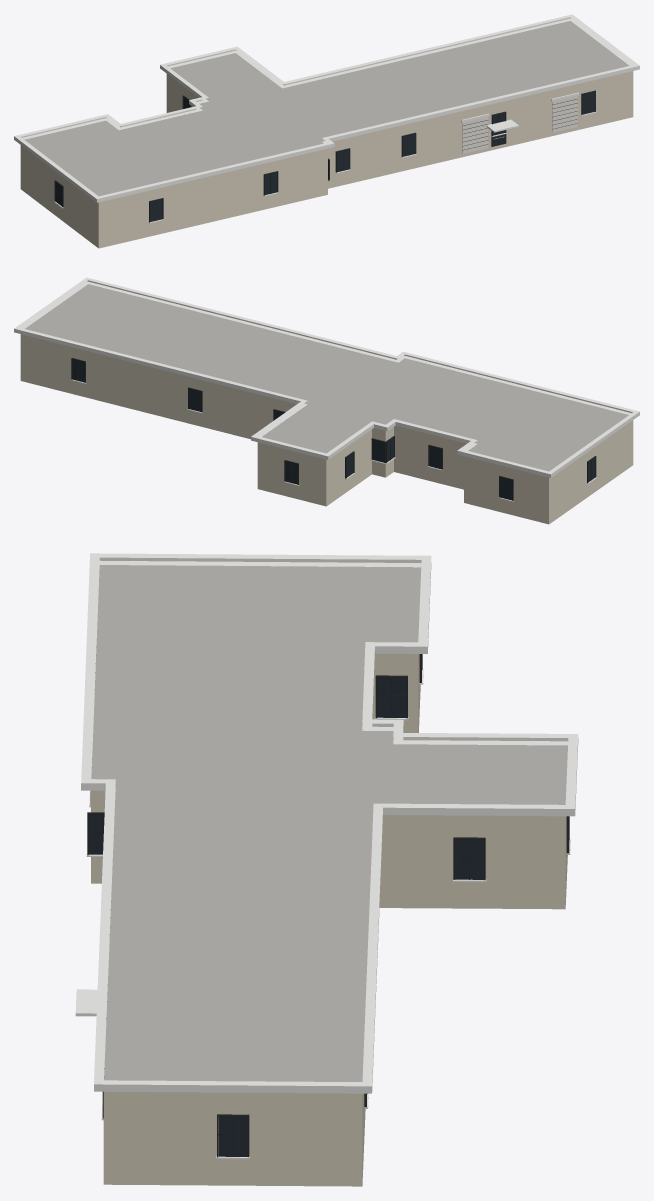
Rendered from north_lab.glb.
3 renders of one model, top to bottom at view 1: azimuth 30°, elevation 25°; view 2: azimuth 150°, elevation 25°; view 3: azimuth 270°, elevation 25°, orthographic. The views are drawn at different scales.
Parts seen in each view (by area): view 1: north_lab_Roof_Membrane, north_lab_Wall_creamMetal, north_lab_Trim_White, north_lab_Glass_dark, north_lab_RollDoor_White, north_lab_Frame_Dark; view 2: north_lab_Roof_Membrane, north_lab_Wall_creamMetal, north_lab_Trim_White, north_lab_Glass_dark, north_lab_Frame_Dark; view 3: north_lab_Roof_Membrane, north_lab_Wall_creamMetal, north_lab_Trim_White, north_lab_Glass_dark, north_lab_Frame_Dark.
Boxes of the visible parts, x1,y1,x2,y2 form: north_lab_Roof_Membrane: [24, 21, 629, 196]; north_lab_Wall_creamMetal: [20, 71, 633, 248]; north_lab_Trim_White: [14, 14, 639, 223]; north_lab_Glass_dark: [55, 92, 595, 221]; north_lab_RollDoor_White: [462, 95, 577, 153]; north_lab_Frame_Dark: [54, 90, 595, 222]; north_lab_Roof_Membrane: [25, 284, 628, 471]; north_lab_Wall_creamMetal: [20, 334, 633, 524]; north_lab_Trim_White: [14, 277, 639, 501]; north_lab_Glass_dark: [72, 359, 595, 500]; north_lab_Frame_Dark: [71, 358, 596, 500]; north_lab_Roof_Membrane: [91, 565, 567, 1081]; north_lab_Wall_creamMetal: [91, 653, 567, 1186]; north_lab_Trim_White: [75, 553, 578, 1159]; north_lab_Glass_dark: [88, 677, 483, 1156]; north_lab_Frame_Dark: [87, 646, 569, 1157].
Bounding box in the file's own units: 77.72 × 7.1 × 30.98.
